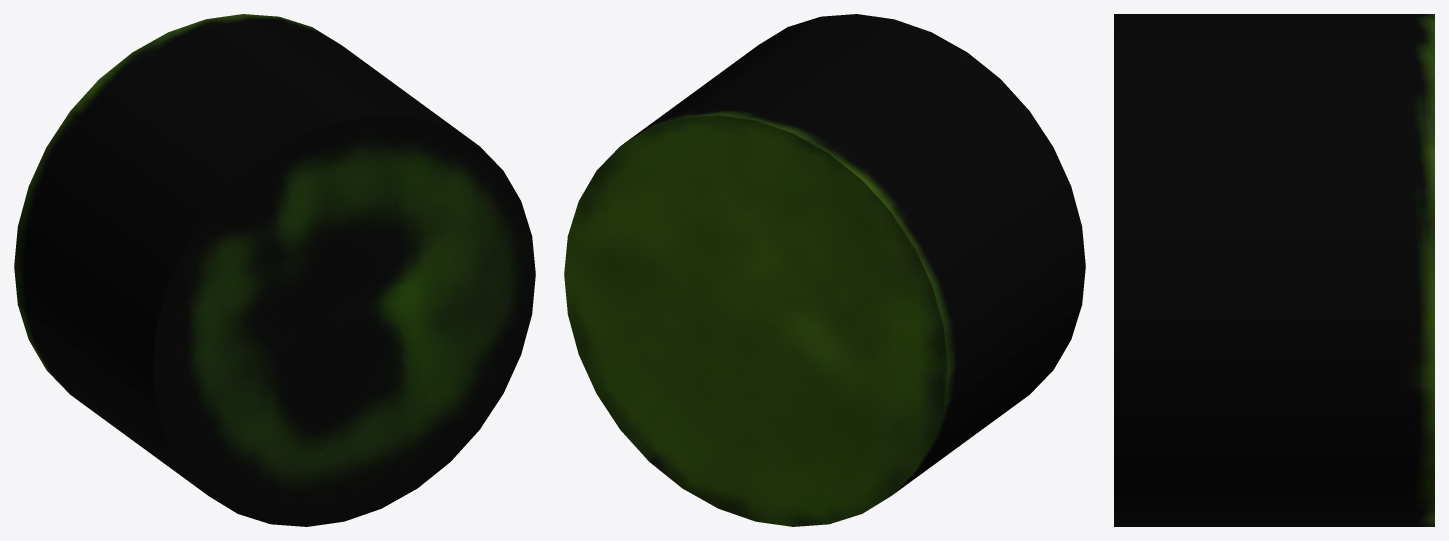
File: knob_0_3_part__knob.glb
3 views of the same model, side by side, from view 1: azimuth 30°, elevation 25°; view 2: azimuth 150°, elevation 25°; view 3: azimuth 270°, elevation 25° (orthographic). The views are drawn at different scales.
Parts seen in each view (by area): view 1: geometry_0; view 2: geometry_0; view 3: geometry_0.
Boxes of the visible parts, bbox=[...] form: geometry_0: bbox=[14, 14, 535, 526]; geometry_0: bbox=[564, 14, 1085, 526]; geometry_0: bbox=[1114, 14, 1434, 526].
Size of the model in its own units: 0.016 by 0.016 by 0.01.
1 material, 1 textured.
